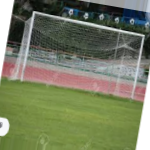goals: (15, 10, 144, 102)
